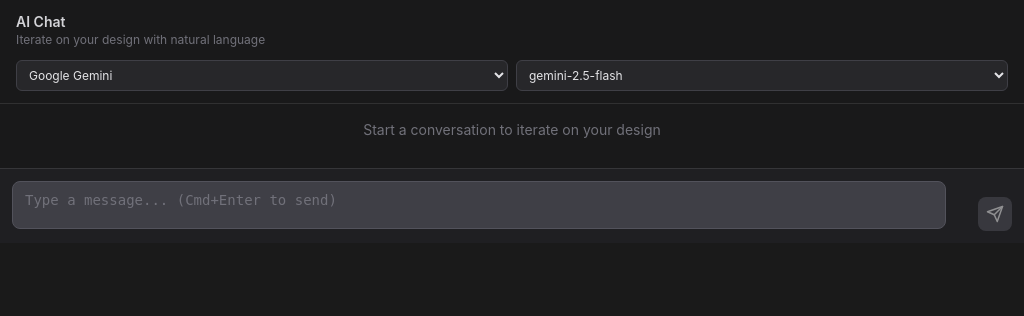
Test case: ChatPanel › shows thinking message while loading
Type "Test" into the text box with placeholder "Type a message... (Cmd+Enter to send)" at (479, 205), box left=12, top=181, right=946, bottom=229
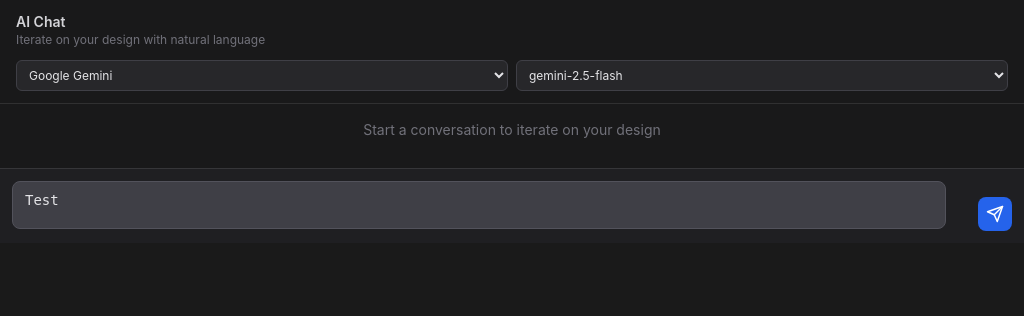
Click the button named "Send" at (995, 214), box left=978, top=197, right=1012, bottom=231
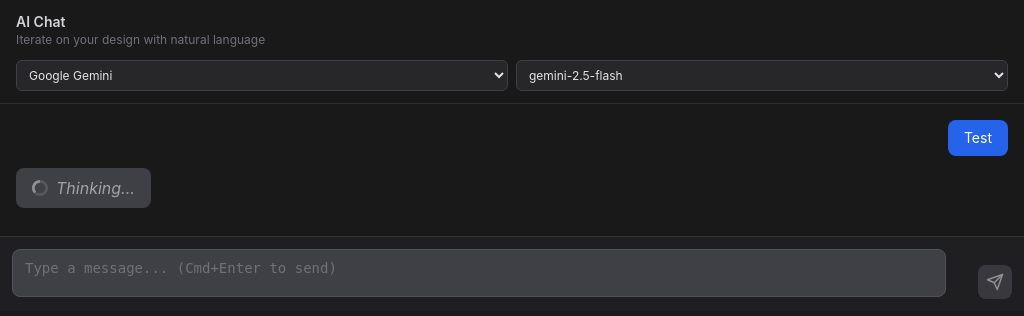
Result: the text "Thinking..." is shown at left=56, top=176, right=135, bottom=200
